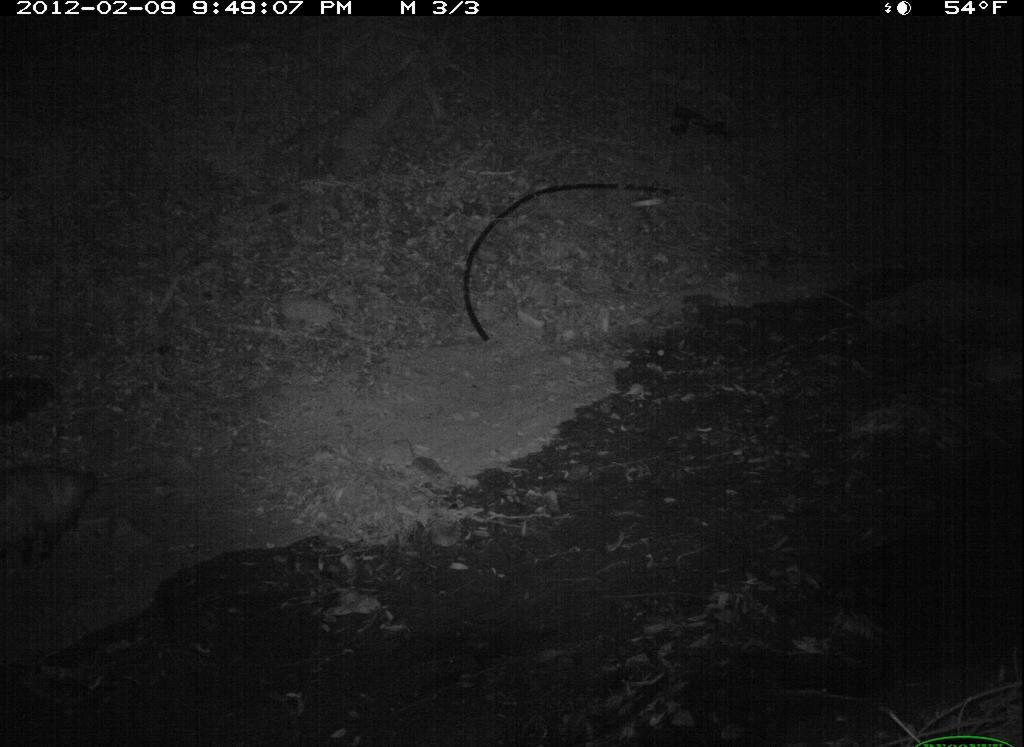opossum: (2, 454, 103, 579)
